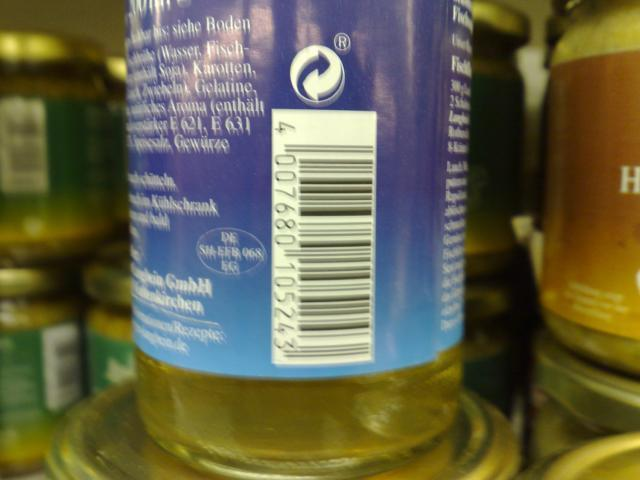Barcode: (271, 109, 377, 366)
